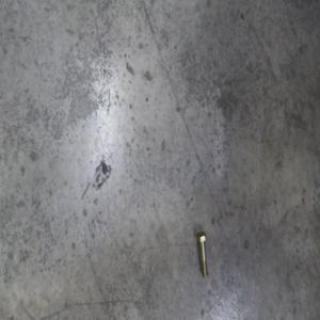Bolttrack_idkeyframe: (195, 229, 208, 278)
